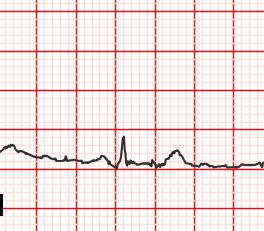Poor R Progression: (118, 133, 131, 172)
